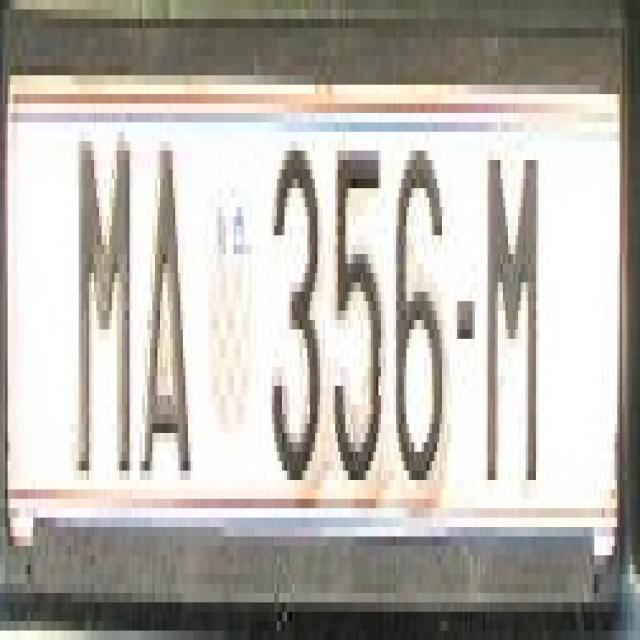3: (264, 132, 320, 489)
5: (325, 142, 386, 490)
6: (388, 132, 449, 489)
A: (137, 104, 198, 480)
M: (477, 122, 546, 499), (68, 122, 134, 480)
